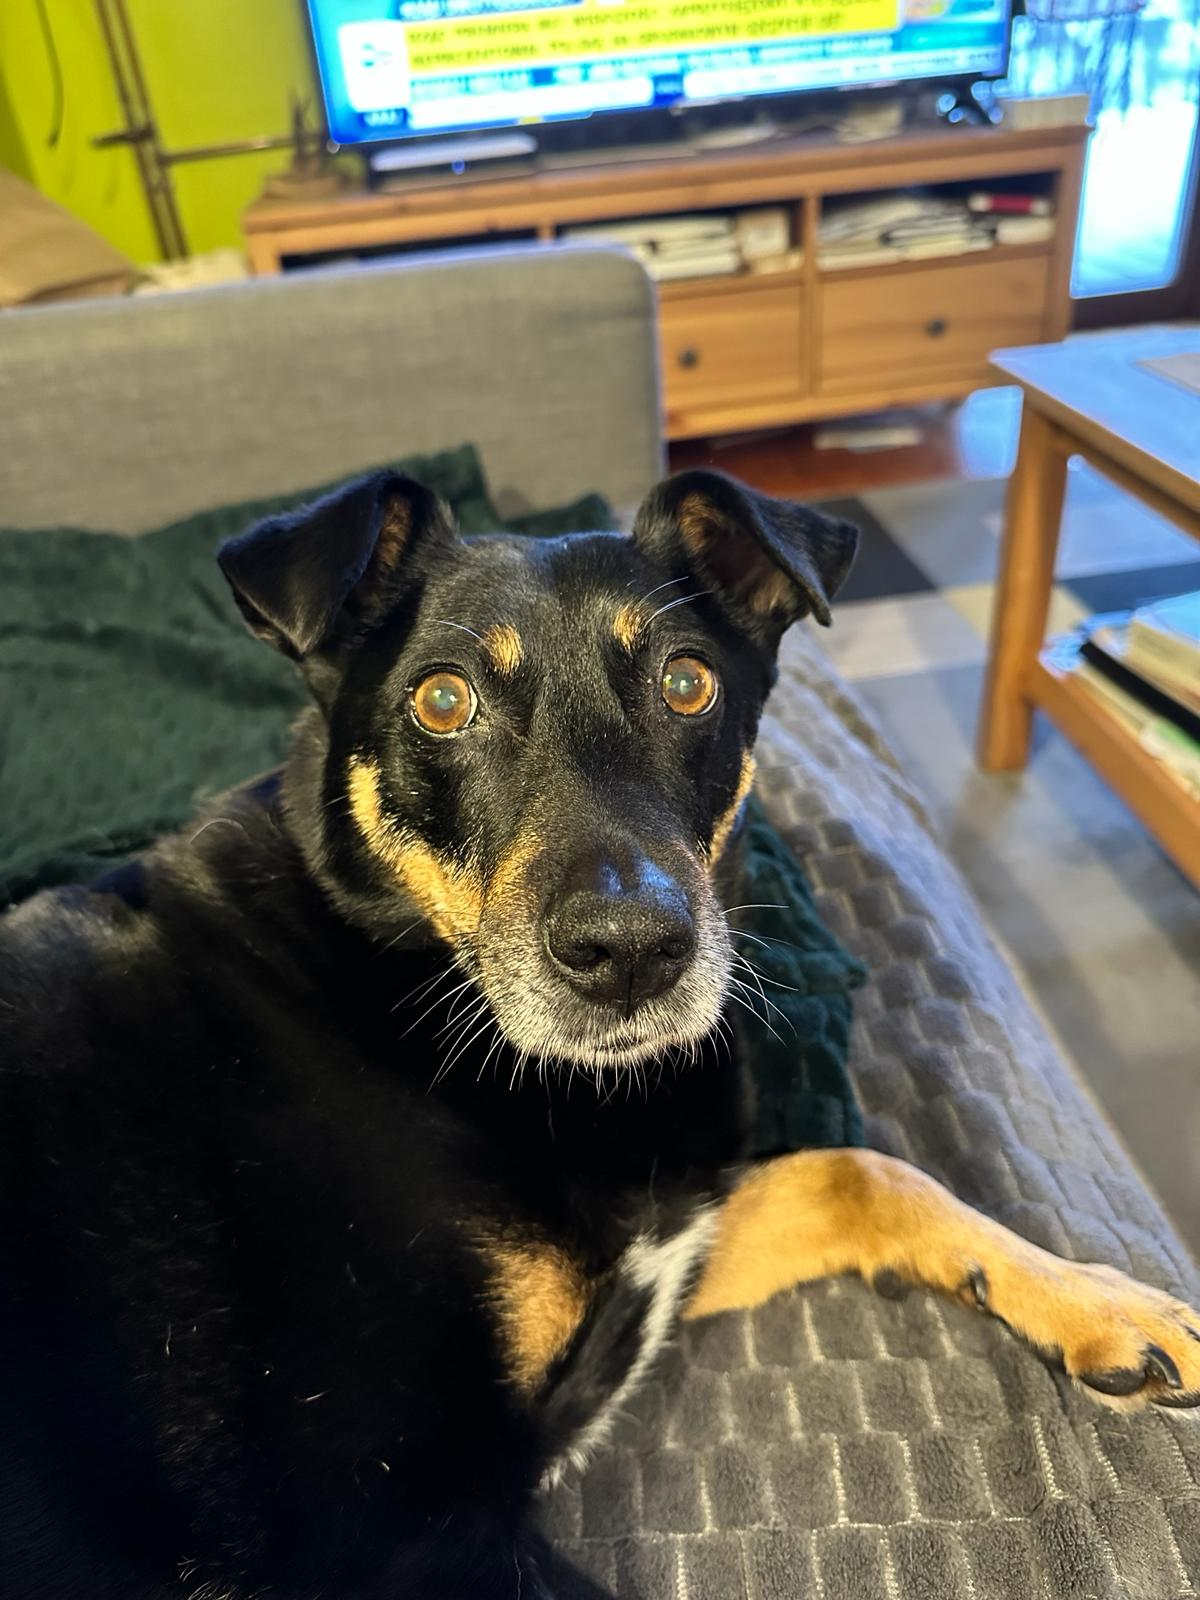reksio: (176, 409, 1161, 1546)
